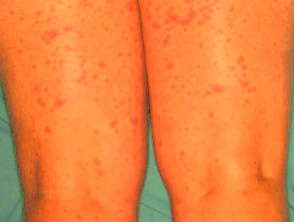SJS-TEN: (134, 0, 294, 222), (0, 0, 153, 222)
